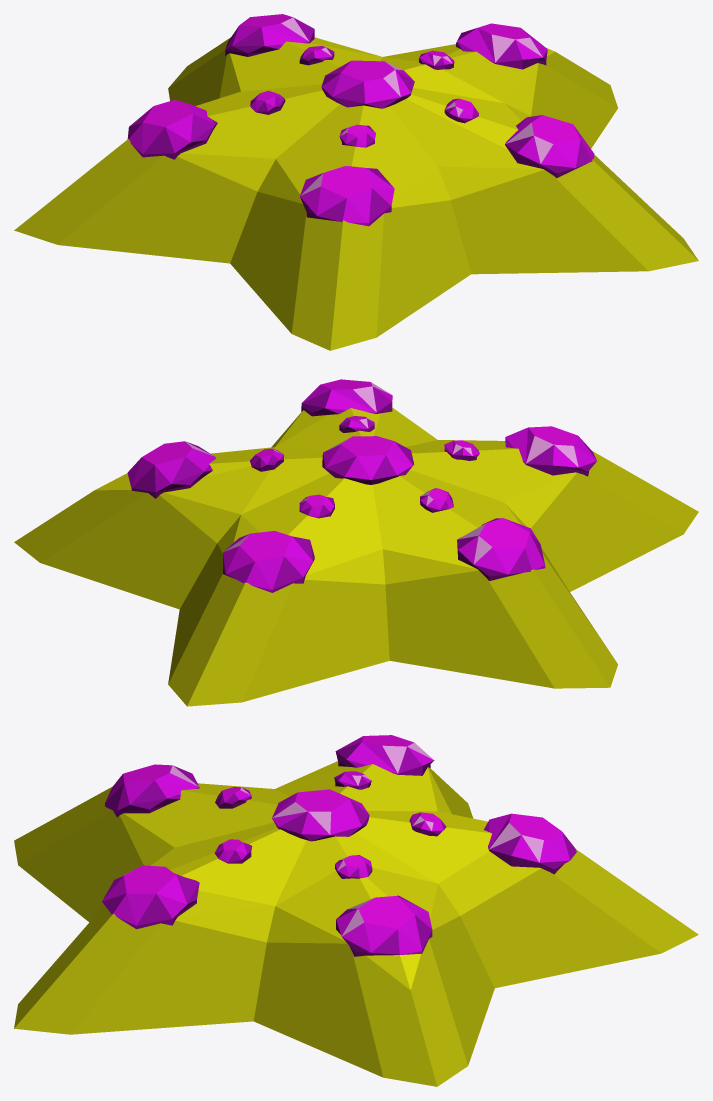
Rendered from starfish_yellow.fbx.
3 views of the same model, one above another, from view 1: azimuth 30°, elevation 25°; view 2: azimuth 150°, elevation 25°; view 3: azimuth 270°, elevation 25° (orthographic). The views are drawn at different scales.
Visible parts, largest first — view 1: starfish_yellow; view 2: starfish_yellow; view 3: starfish_yellow.
Part boxes in pixels (x1=…): starfish_yellow: x1=14, y1=14, x2=698, y2=350; starfish_yellow: x1=14, y1=379, x2=698, y2=706; starfish_yellow: x1=14, y1=735, x2=698, y2=1086.
Size of the model in its own units: 0.7089 by 0.1461 by 0.6742.
